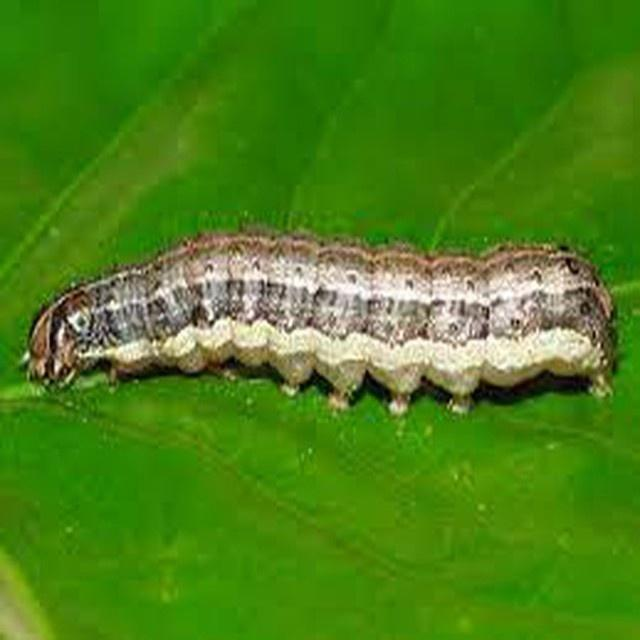gusano_cogollero: (27, 228, 620, 420)
